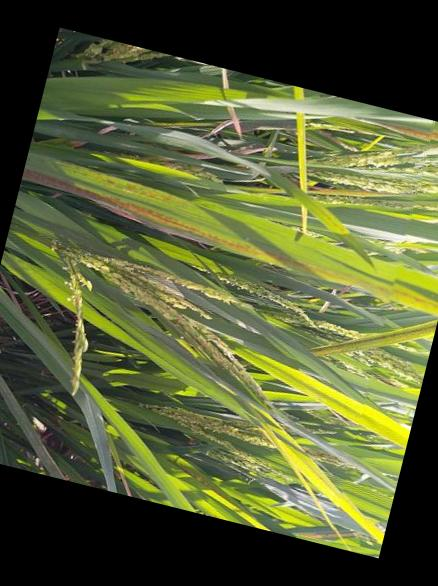Leaf Streak: (21, 164, 282, 267), (366, 121, 438, 143)
